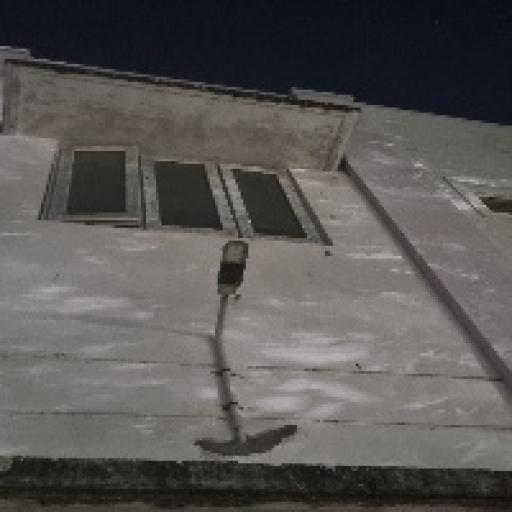Not Working: (192, 230, 272, 314)
